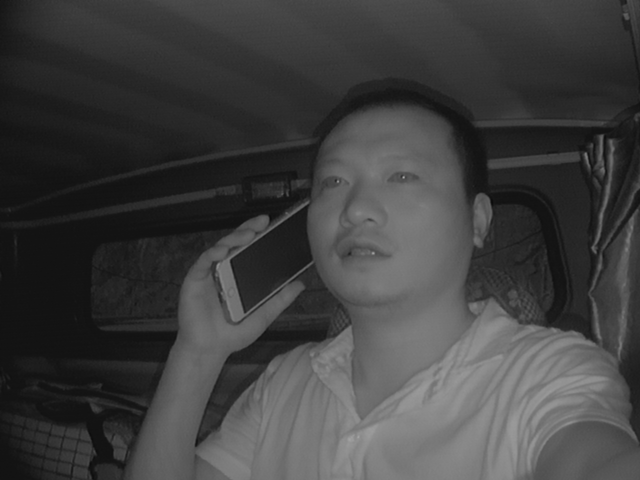hand: (178, 216, 283, 354)
